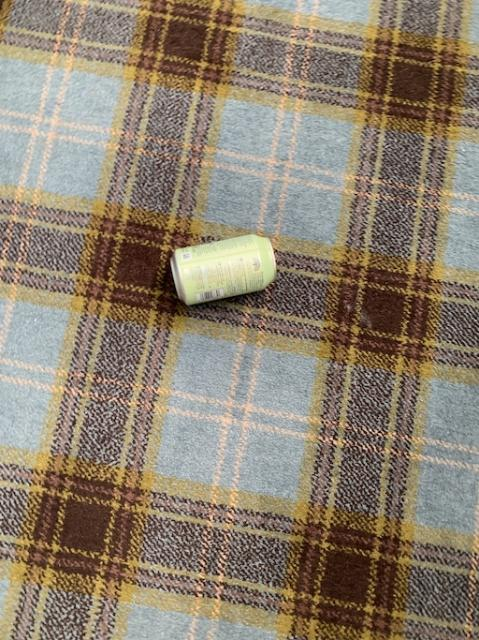metal: (170, 233, 275, 304)
